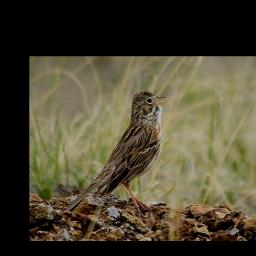Sparrow: (59, 85, 173, 223)
